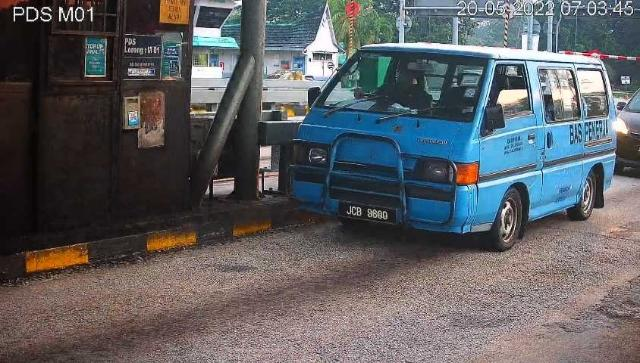License_Plate: (338, 202, 401, 228)
van: (285, 44, 618, 254)
